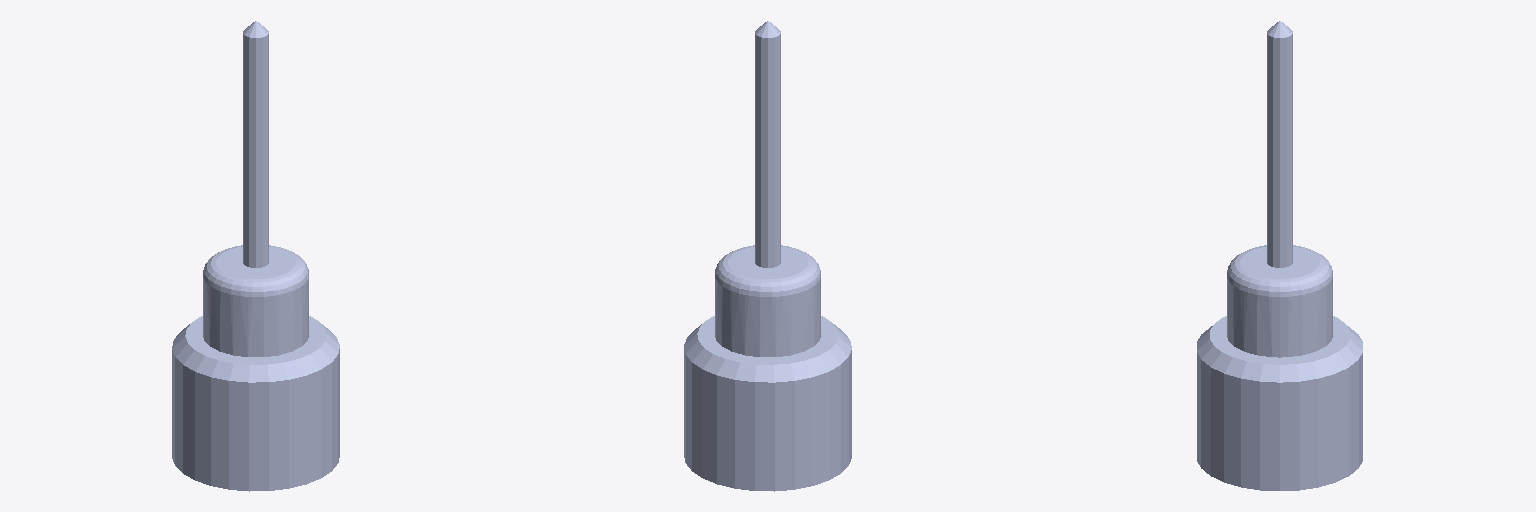
URDF robot description (tool):
<?xml version="1.0" encoding="utf-8"?>
<!-- This URDF was automatically created by SolidWorks to URDF Exporter! Originally created by [author] ([email redacted]) 
     Commit Version: 1.6.0-4-g7f85cfe  Build Version: 1.6.7995.38578
     For more information, please see http://wiki.ros.org/sw_urdf_exporter -->
<robot
  name="tool">
  <link
    name="base_link">
    <inertial>
      <origin
        xyz="8.6736E-19 -1.0842E-19 0.03612"
        rpy="0 0 0" />
      <mass
        value="0.19817" />
      <inertia
        ixx="0.00019631"
        ixy="-5.0751E-37"
        ixz="9.5557E-21"
        iyy="0.00019631"
        iyz="2.9387E-36"
        izz="8.2637E-05" />
    </inertial>
    <visual>
      <origin
        xyz="0 0 0"
        rpy="0 0 0" />
      <geometry>
        <mesh
          filename="package://tool/meshes/base_link.STL" />
      </geometry>
      <material
        name="">
        <color
          rgba="0.79216 0.81961 0.93333 1" />
      </material>
    </visual>
    <collision>
      <origin
        xyz="0 0 0"
        rpy="0 0 0" />
      <geometry>
        <mesh
          filename="package://tool/meshes/base_link.STL" />
      </geometry>
    </collision>
  </link>
 
</robot>

--- Render facts (derived) ---
3 views of the same robot in one strip: view 1: azimuth 30°, elevation 25°; view 2: azimuth 150°, elevation 25°; view 3: azimuth 270°, elevation 25° (orthographic).
Model tool with 1 links and 0 joints (none), rooted at base_link, posed every joint at zero.
Links seen in each view (by area): view 1: base_link; view 2: base_link; view 3: base_link.
Link boxes in pixels (x1=…): base_link: x1=172, y1=21, x2=339, y2=491; base_link: x1=684, y1=21, x2=851, y2=491; base_link: x1=1197, y1=21, x2=1362, y2=490.
Bounding box of the posed robot: 0.063 × 0.0625 × 0.18 m (x, y, z).
Meshes: 1 distinct files referenced, 1 mesh visuals loaded (1 binary STL).